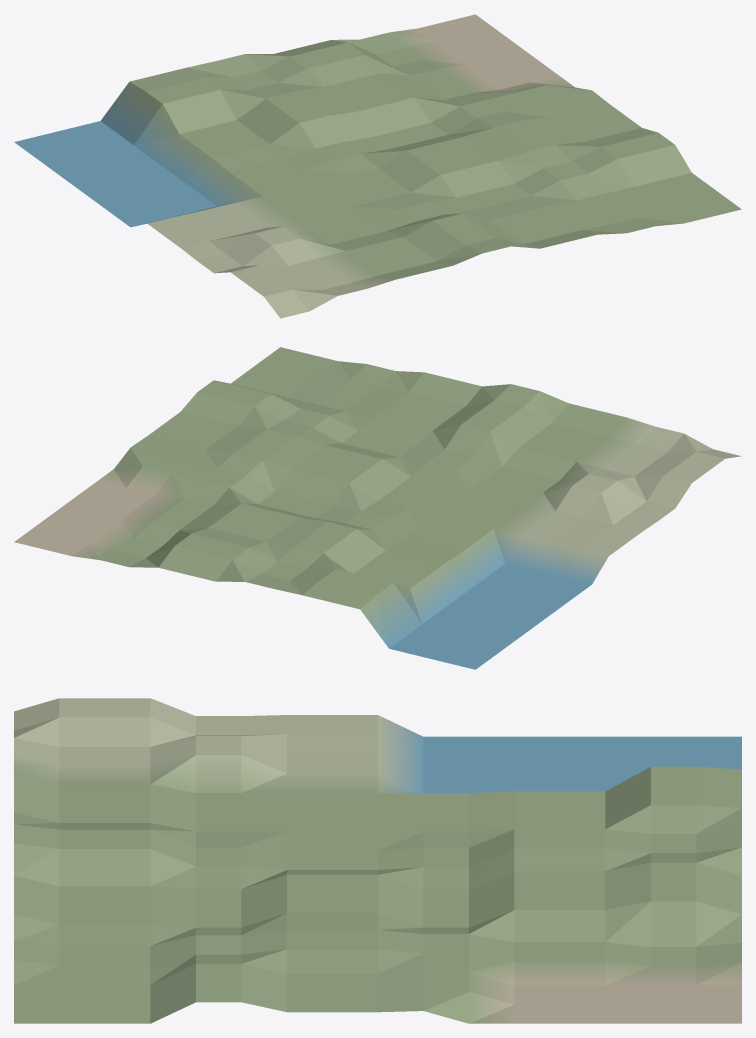
3 renders of one model, top to bottom at view 1: azimuth 30°, elevation 25°; view 2: azimuth 150°, elevation 25°; view 3: azimuth 270°, elevation 25°, orthographic. The views are drawn at different scales.
Size of the model in its own units: 32 by 2.28 by 32.
